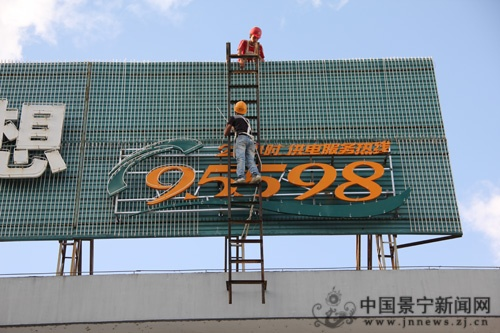red: (247, 25, 263, 43)
yellow: (232, 100, 247, 118)
